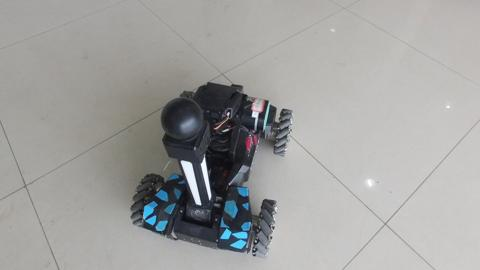chariot: (123, 68, 286, 249)
